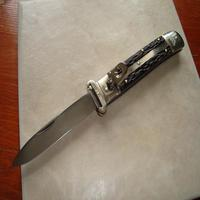knife: (4, 29, 184, 175)
